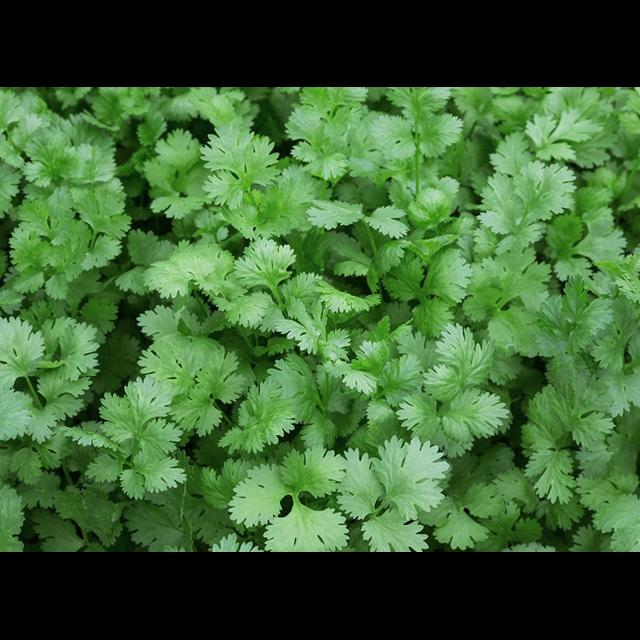cilantro: (74, 134, 585, 494)
